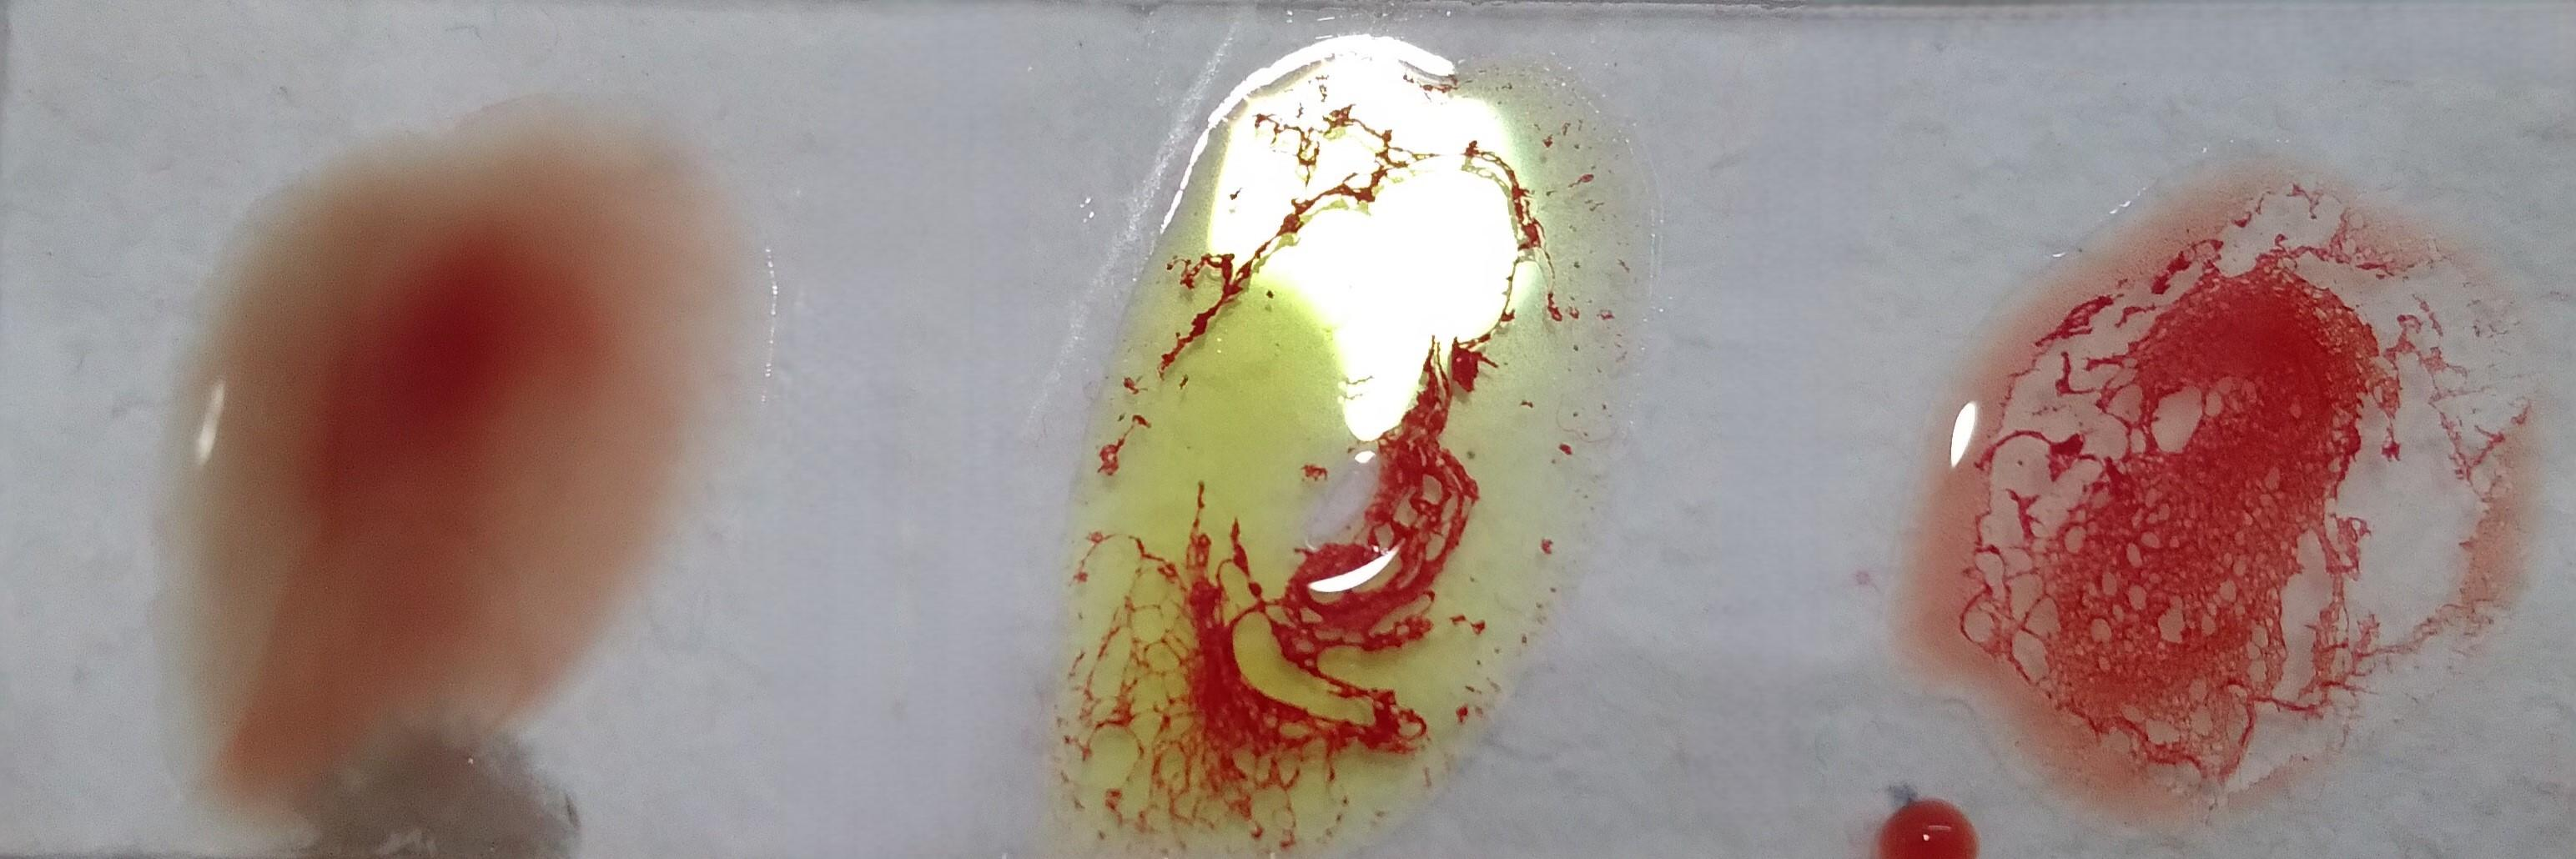B: (1091, 43, 1554, 859)
D: (1934, 159, 2495, 808)
